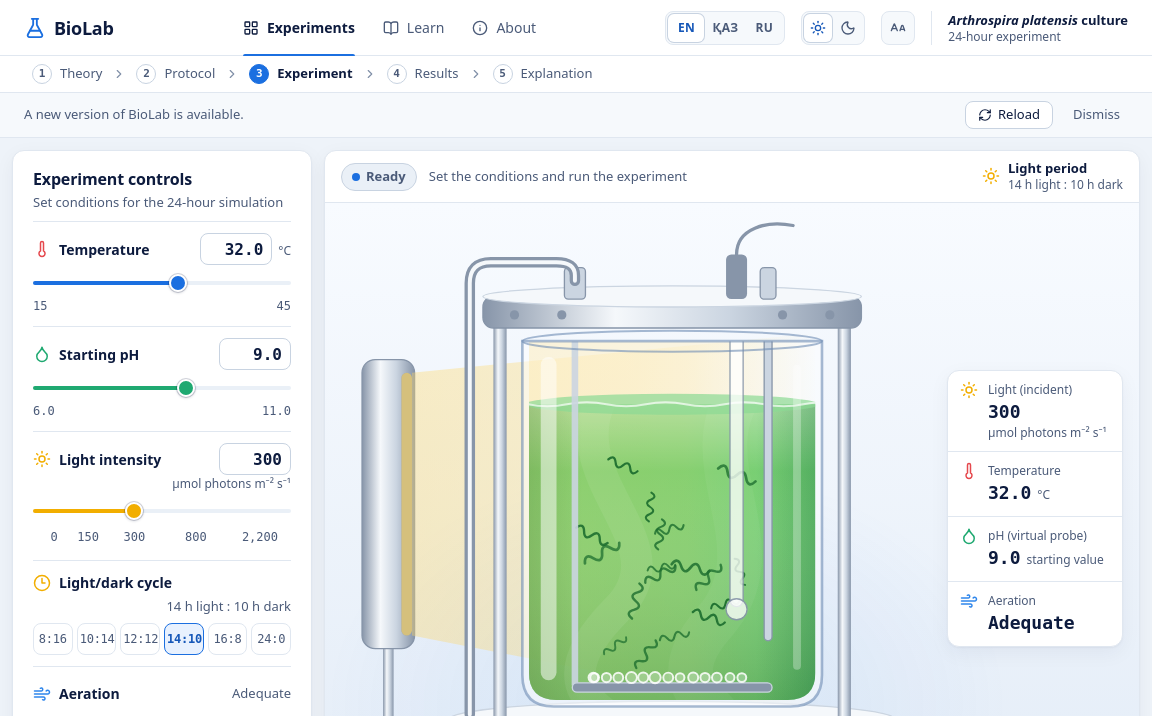
Test: O5 offline status and update notice › offers Reload for a waiting update, never reloads by itself, and can be dismissed
Step 1. Click the button "Reload" → click(1009, 115), box [965,101,1053,129]
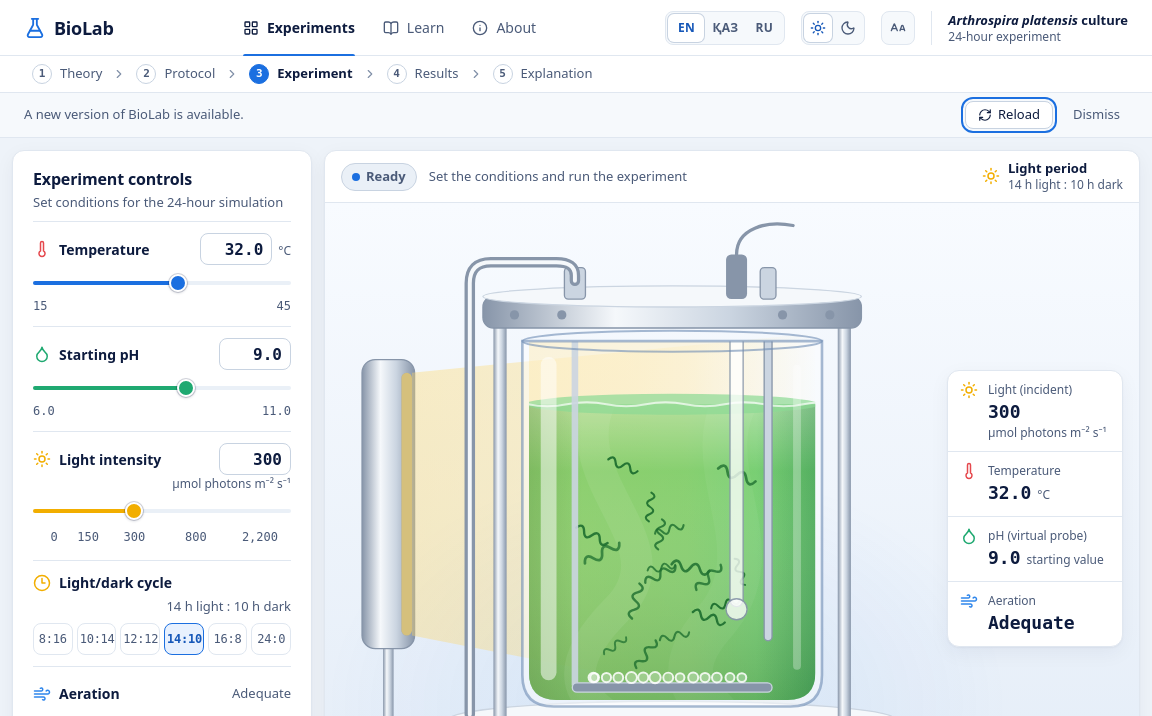
Step 2. Click the button "Dismiss" → click(1096, 115), box [1065,101,1128,129]
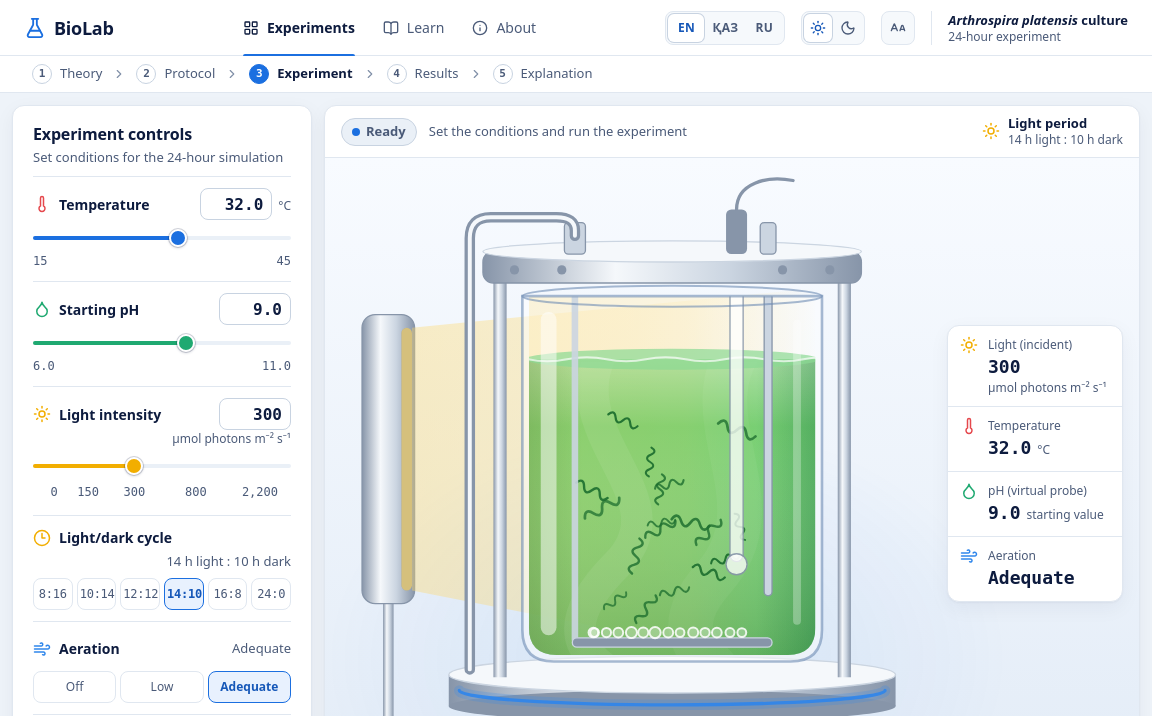
Expected: the text "A new version of BioLab is available." is gone
